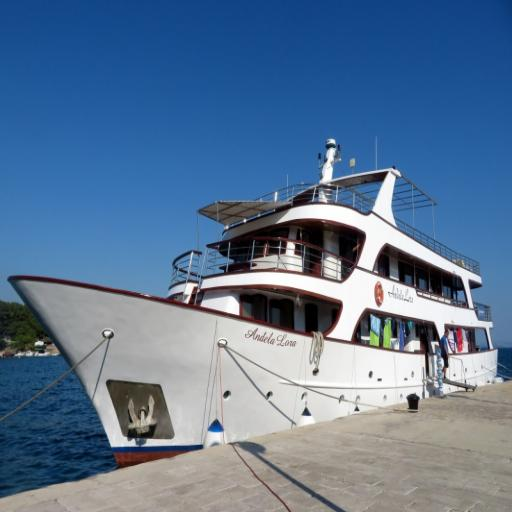cruises: (6, 136, 502, 469)
